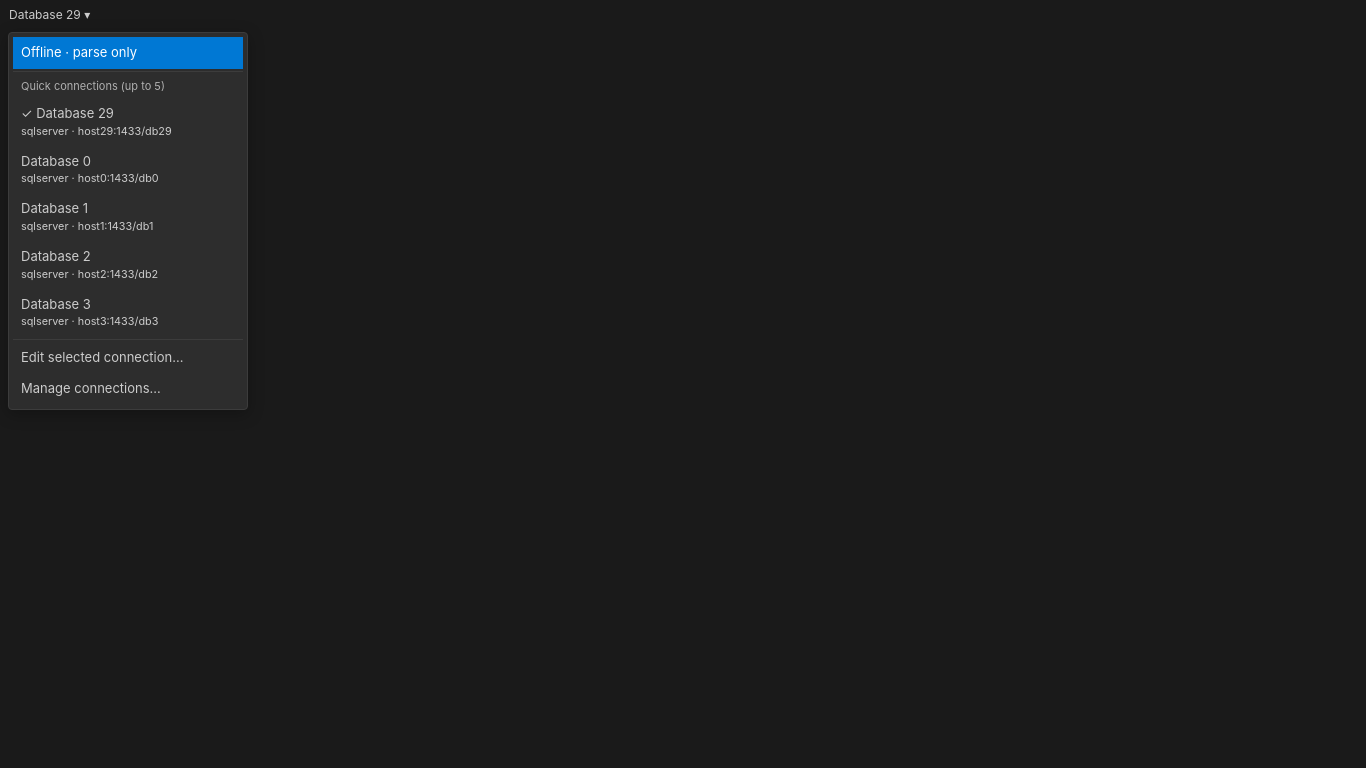
ConnectionManager bounded shortcuts › confirms deletion inline, permits cancel and prevents duplicate submission
This screenshot has width=1366, height=768.
Earlier steps of the test are not shown.
Later steps or results of the test are not shown.
Click the menu item "Manage connections…": (91, 388) x1=21 y1=380 x2=161 y2=396
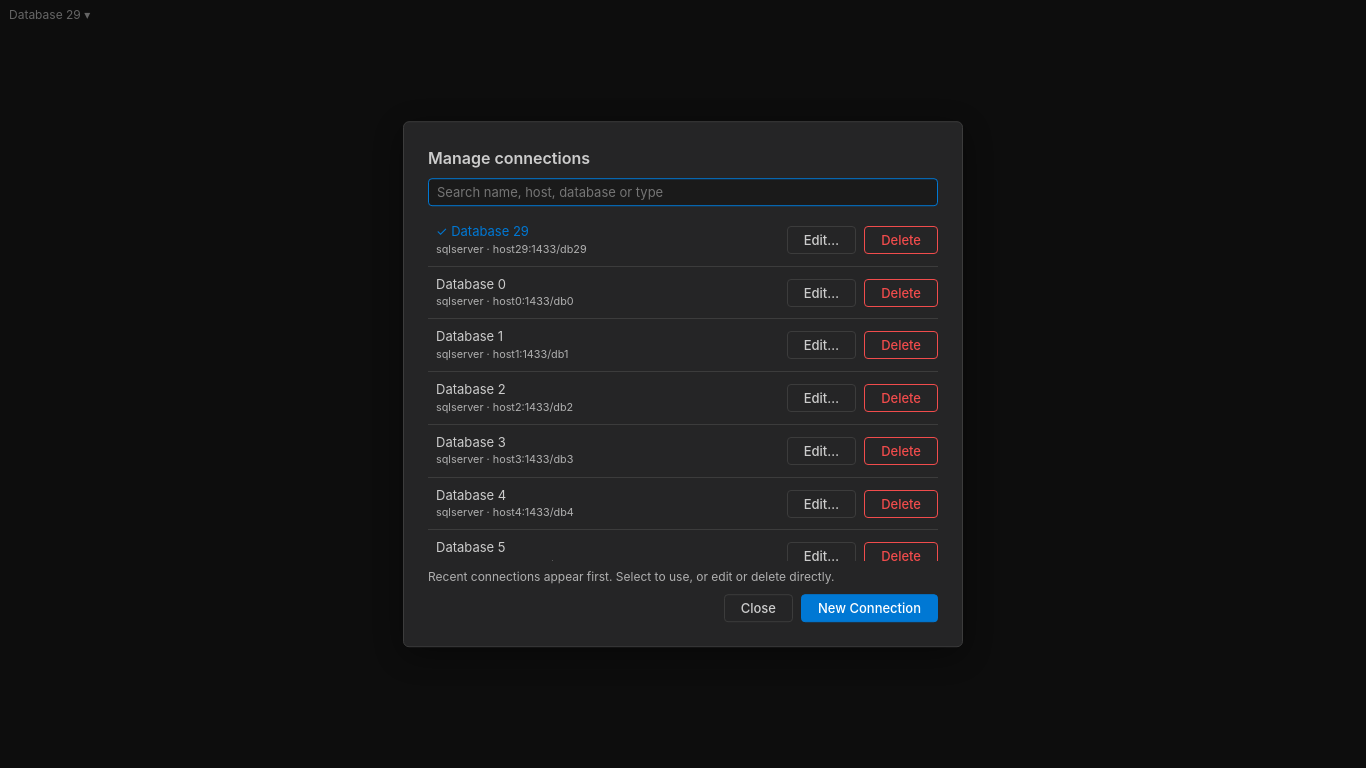
In the search field: (683, 192) x1=428 y1=178 x2=938 y2=206, type "host17"
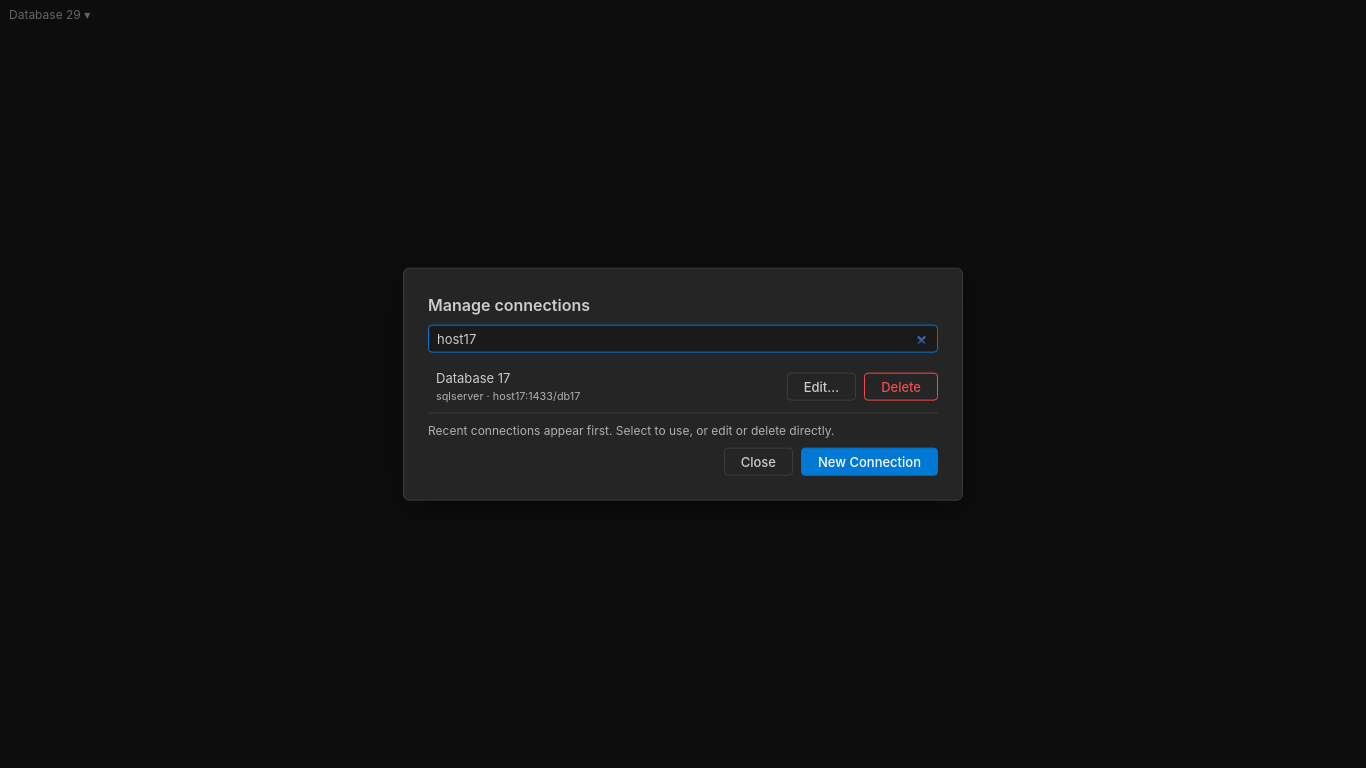
Click the button "Delete": (901, 386) x1=864 y1=372 x2=938 y2=400
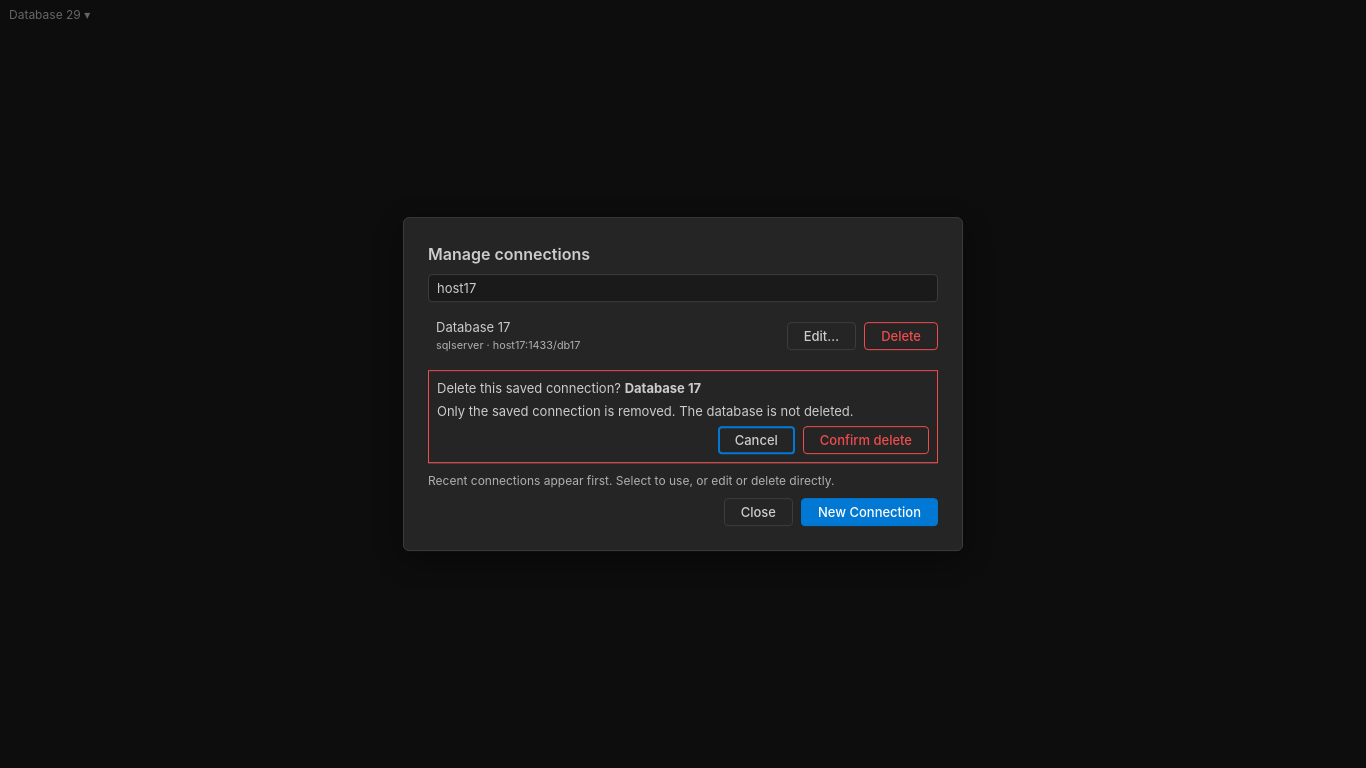
Click the button "Cancel": (756, 440) x1=718 y1=426 x2=795 y2=454
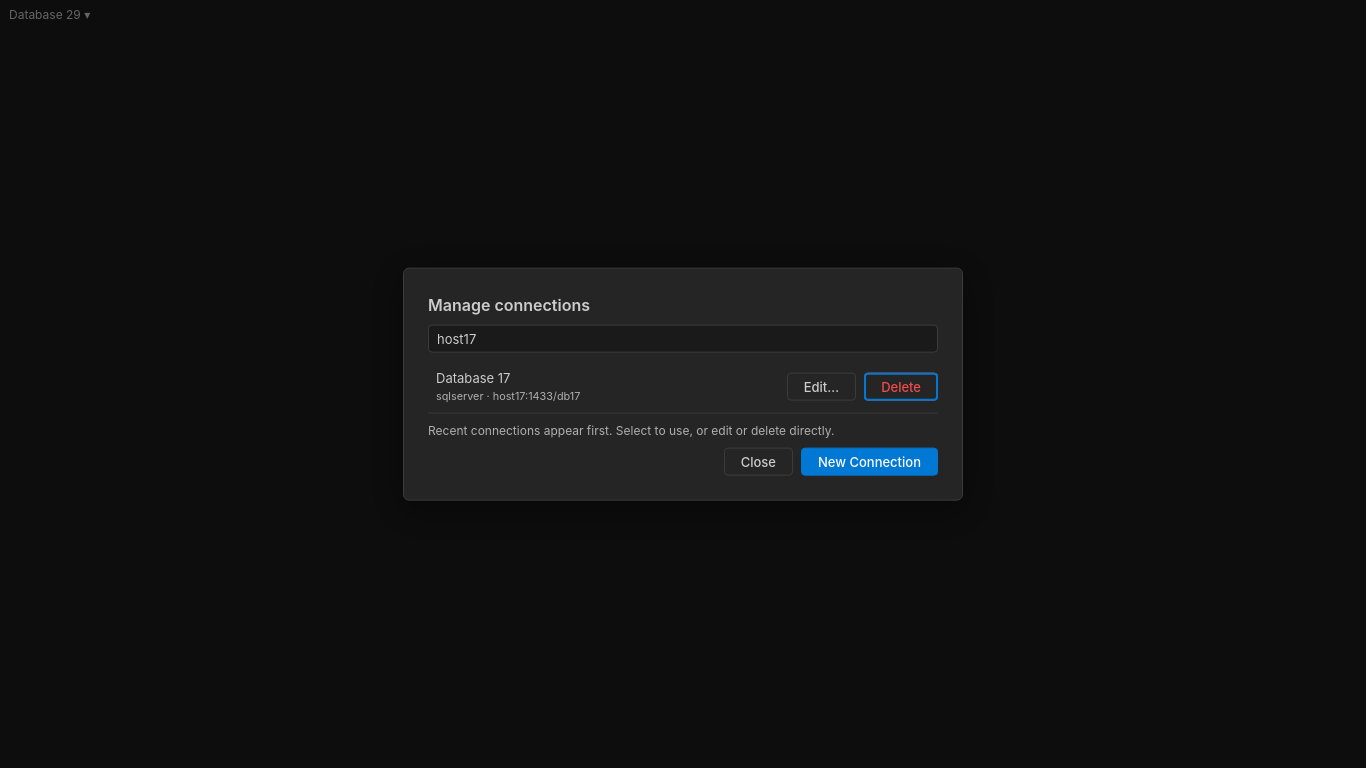
Click the button "Delete": (901, 386) x1=864 y1=372 x2=938 y2=400
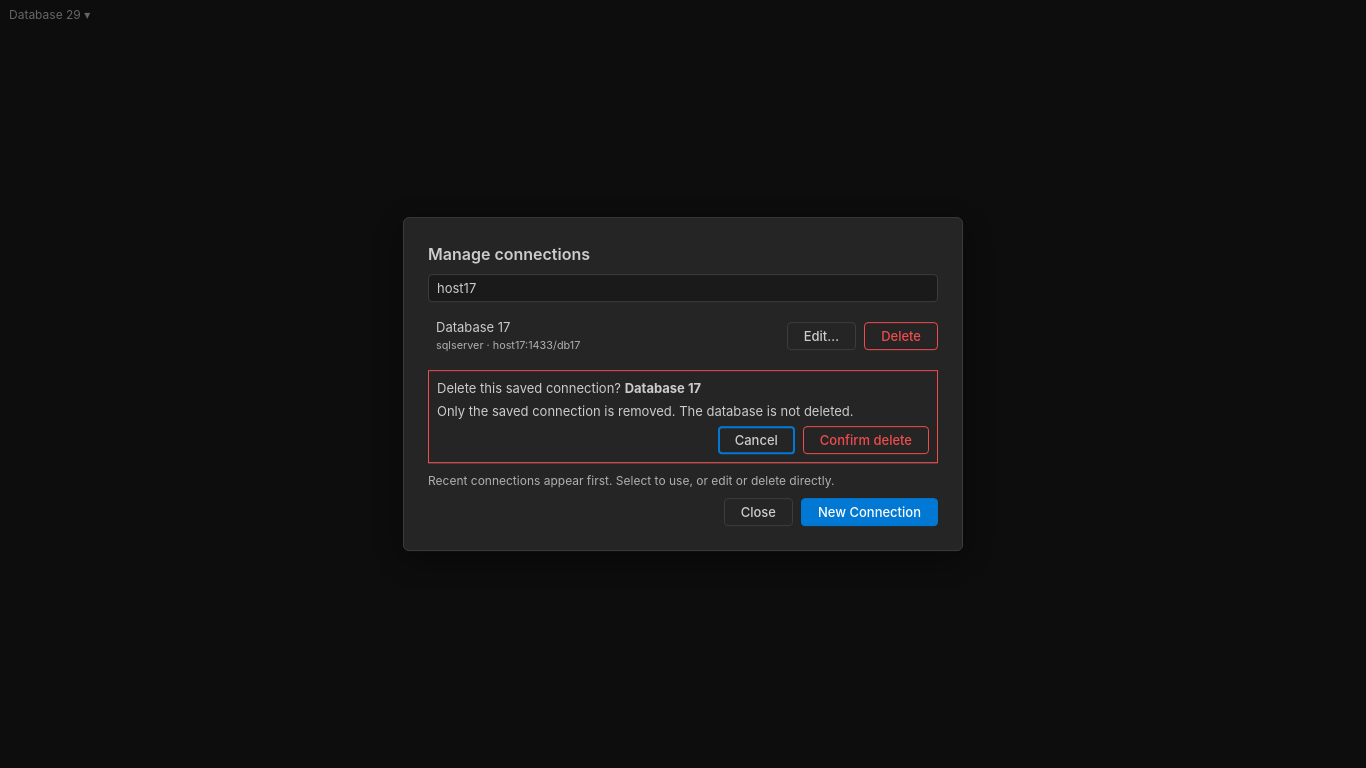
Click the button "Confirm delete": (866, 440) x1=803 y1=426 x2=929 y2=454
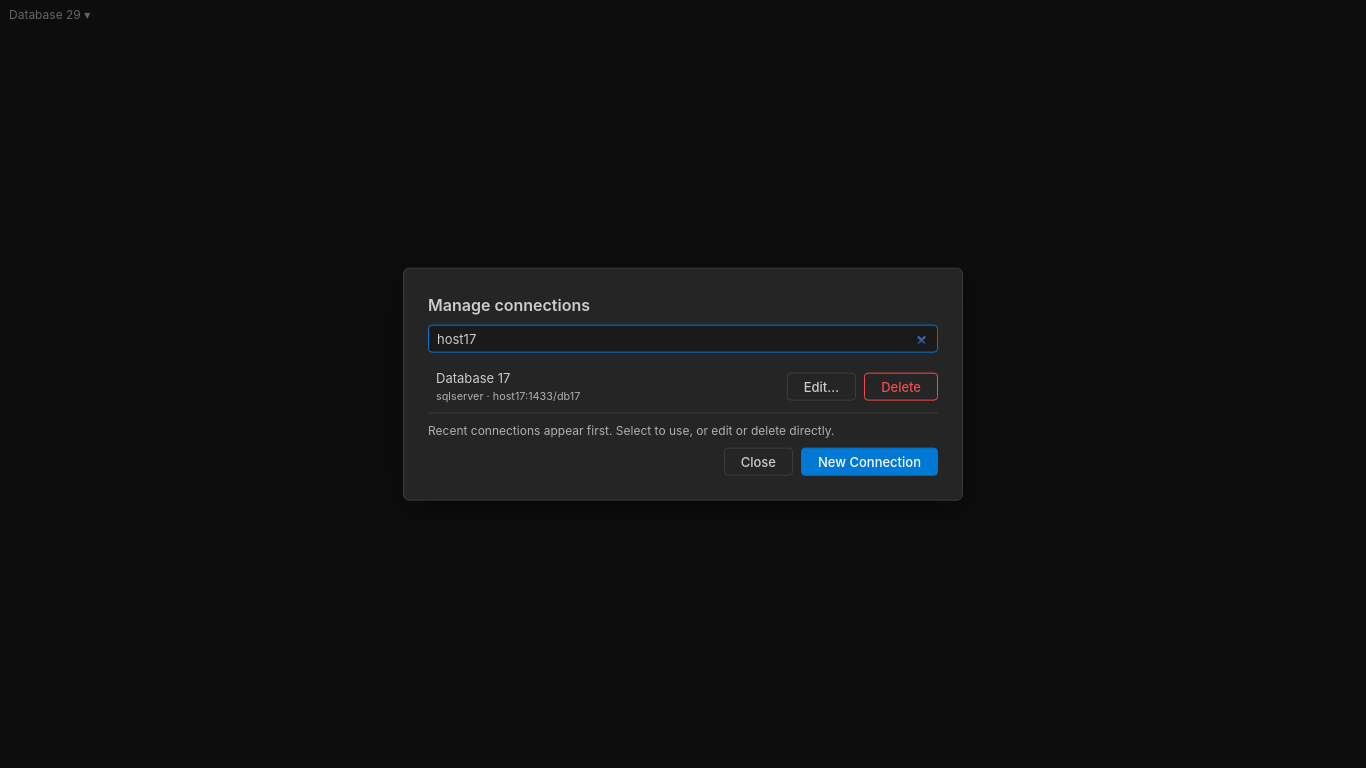
Check: the text "Delete this saved connection?" is gone
